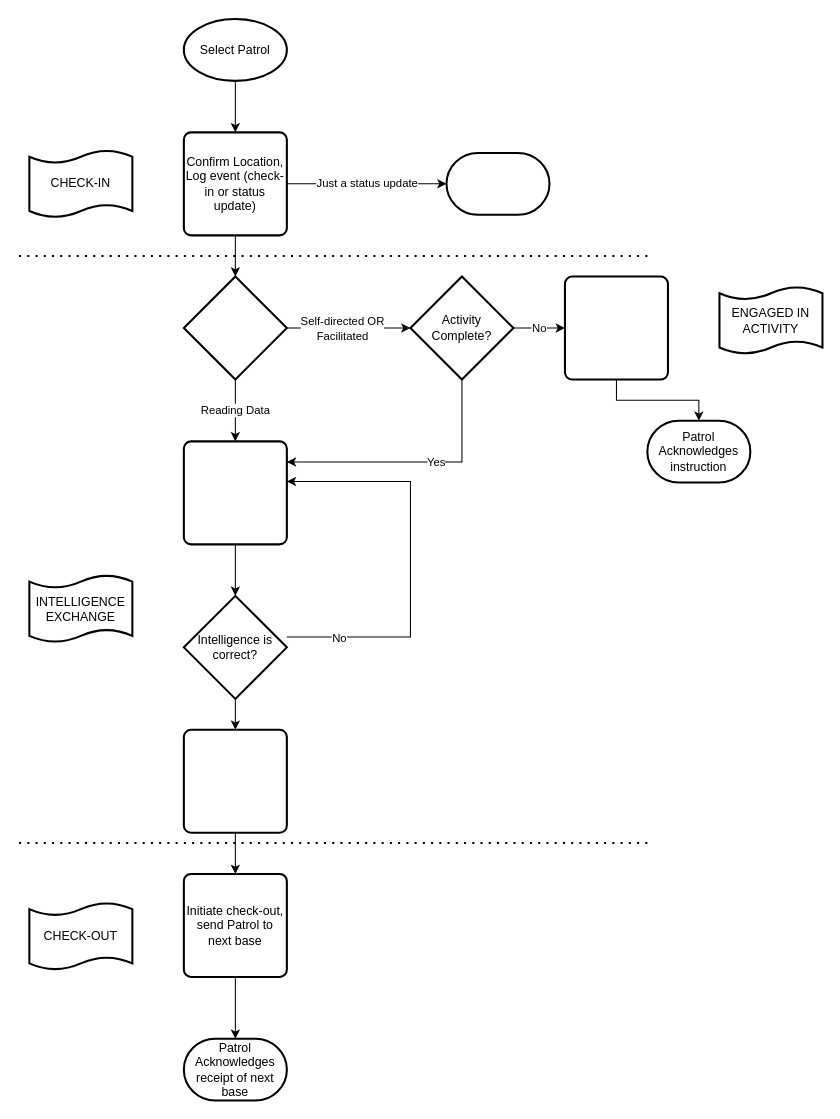
This 840x1119 diagram has some shape labels left out. The centre of each missing label's shape, as x and y in pixels:
"Activity Type" belongs at point (234, 327).
"Instruct Patrol to complete Activity and obtain Intelligence" belongs at point (615, 327).
"Log Intelligence as received and Acknowledge" belongs at point (234, 780).
"Log patrol radio location and comment" belongs at point (497, 183).
"Request Intelligence" belongs at point (234, 492).
